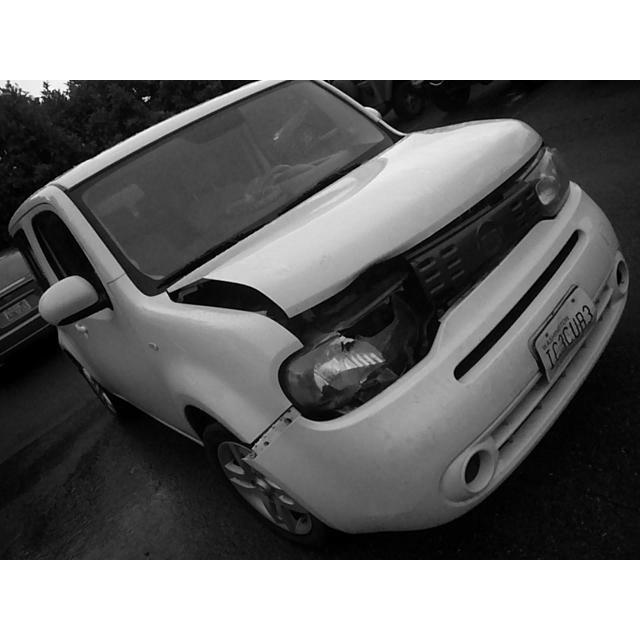Headlight-damage: (252, 313, 409, 437)
bonnet-dent: (200, 205, 459, 305)
